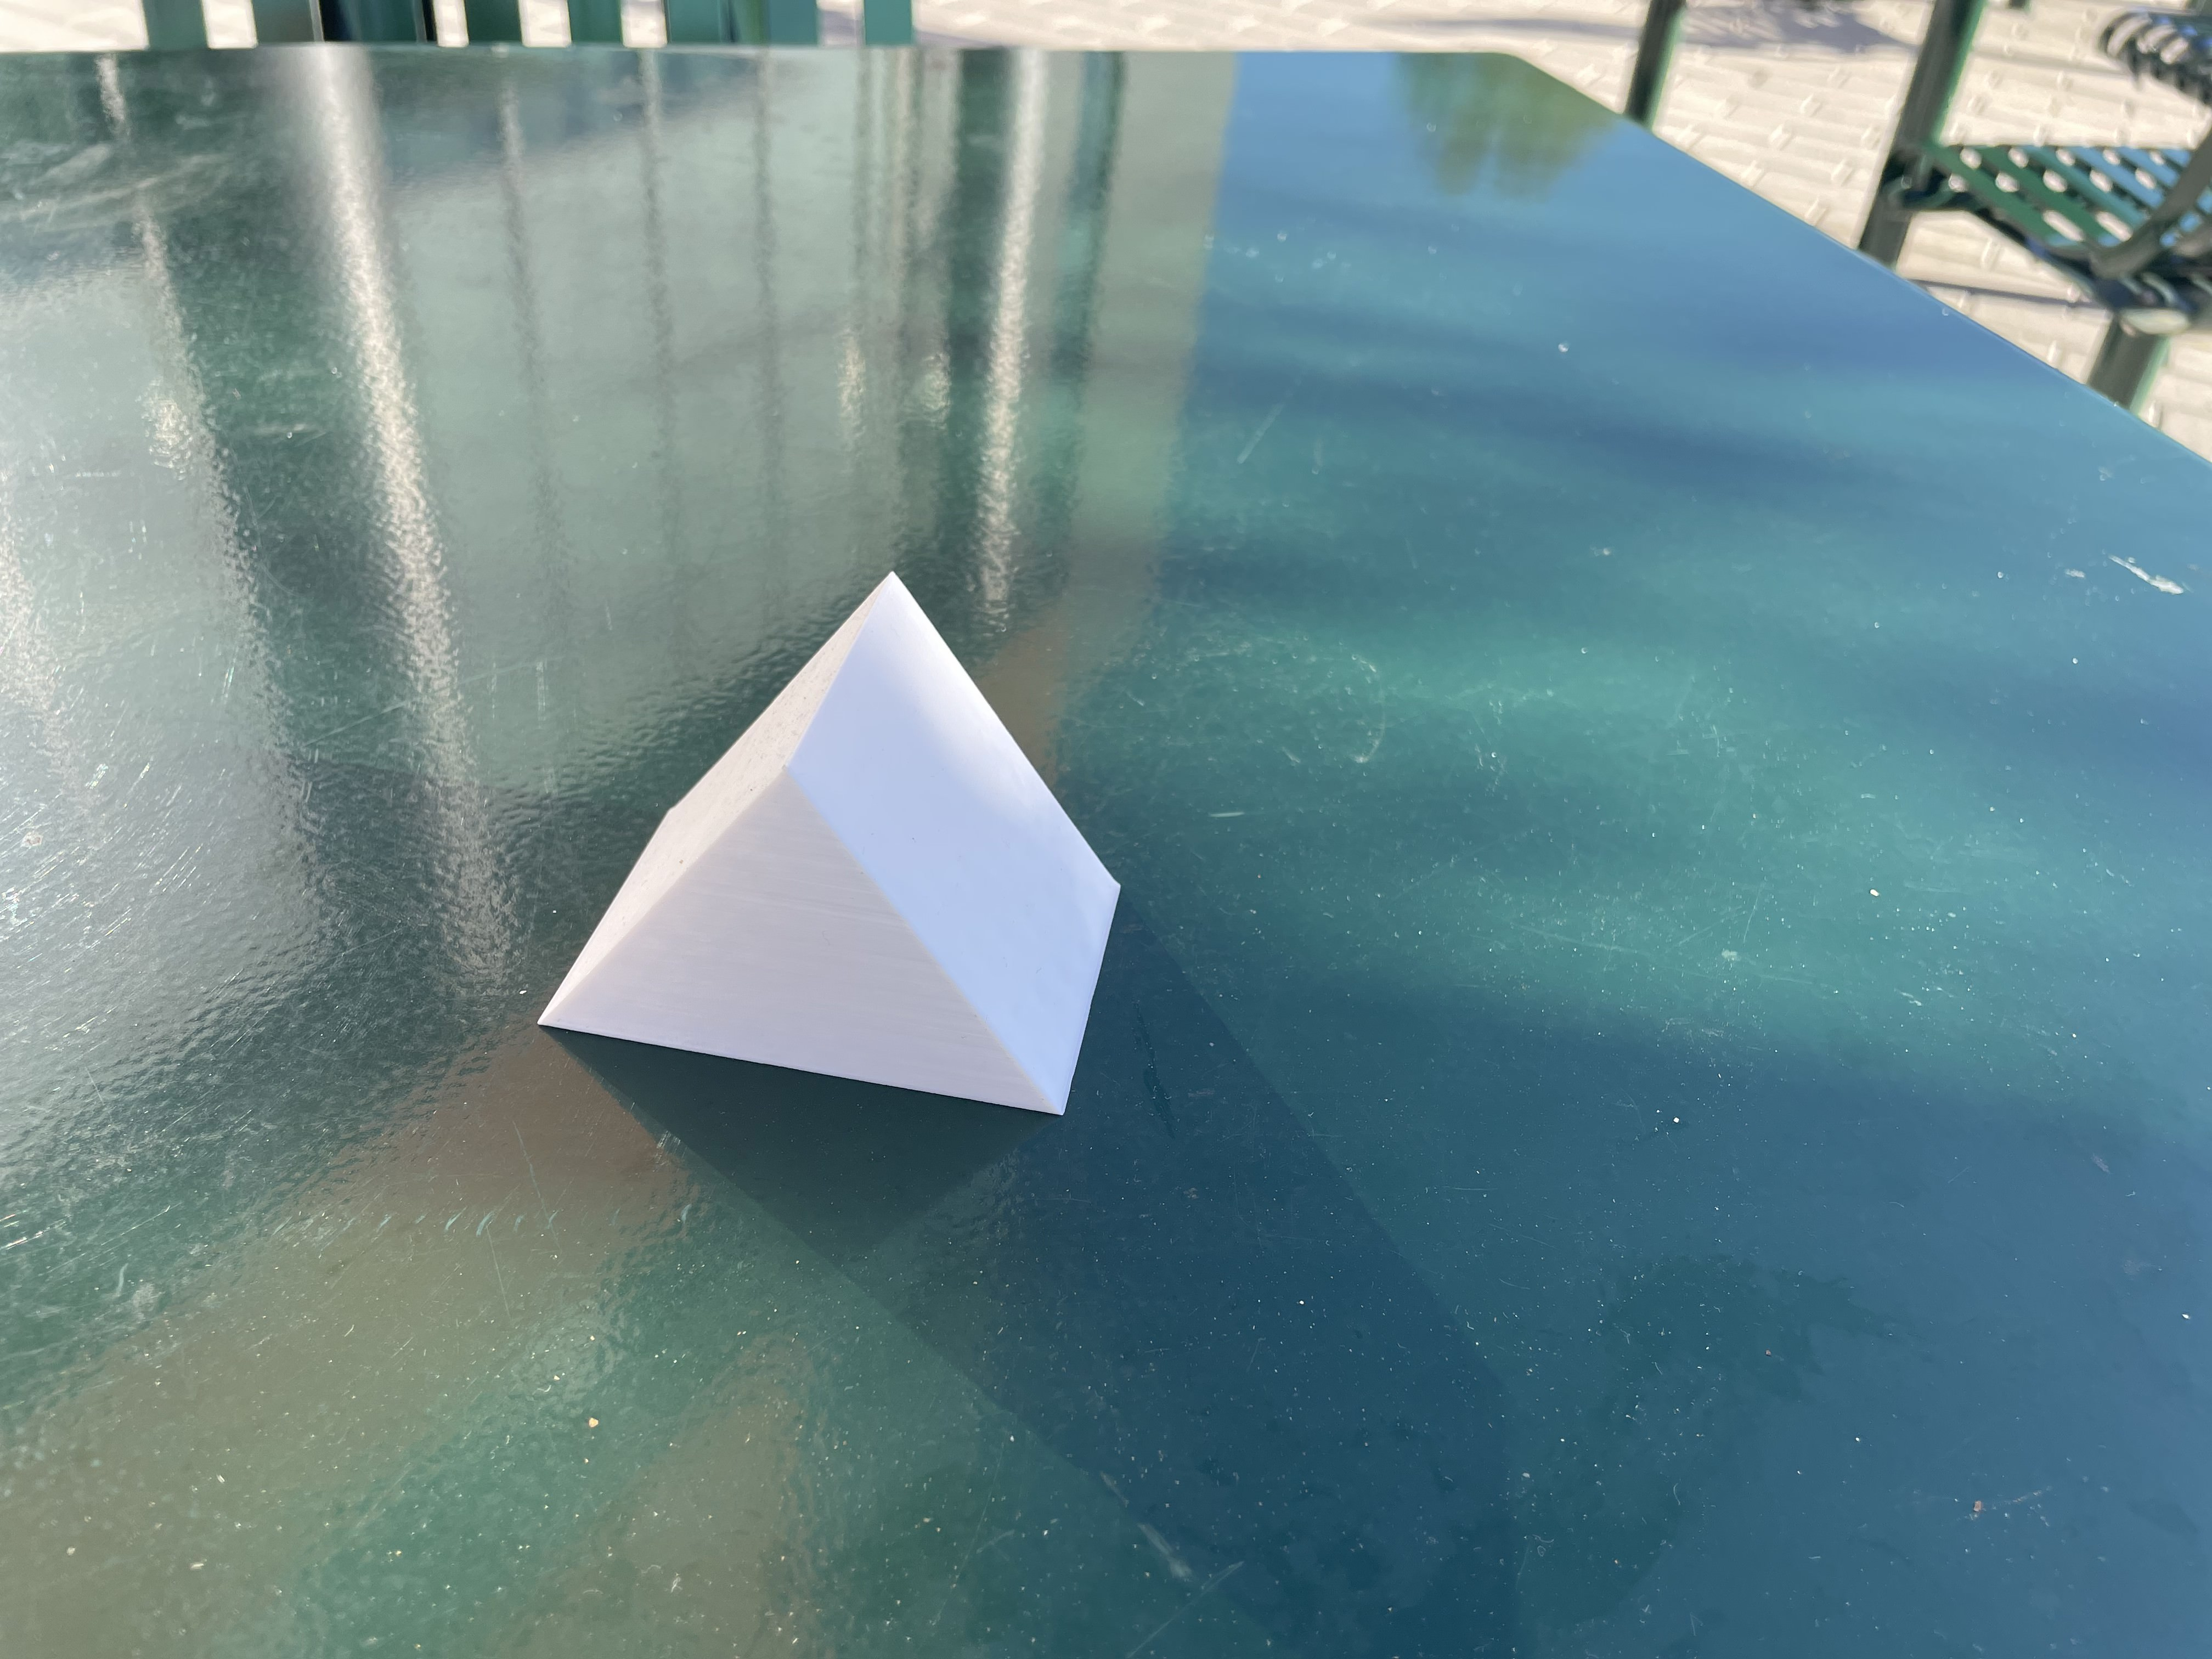payload2: (519, 551, 1150, 1141)
